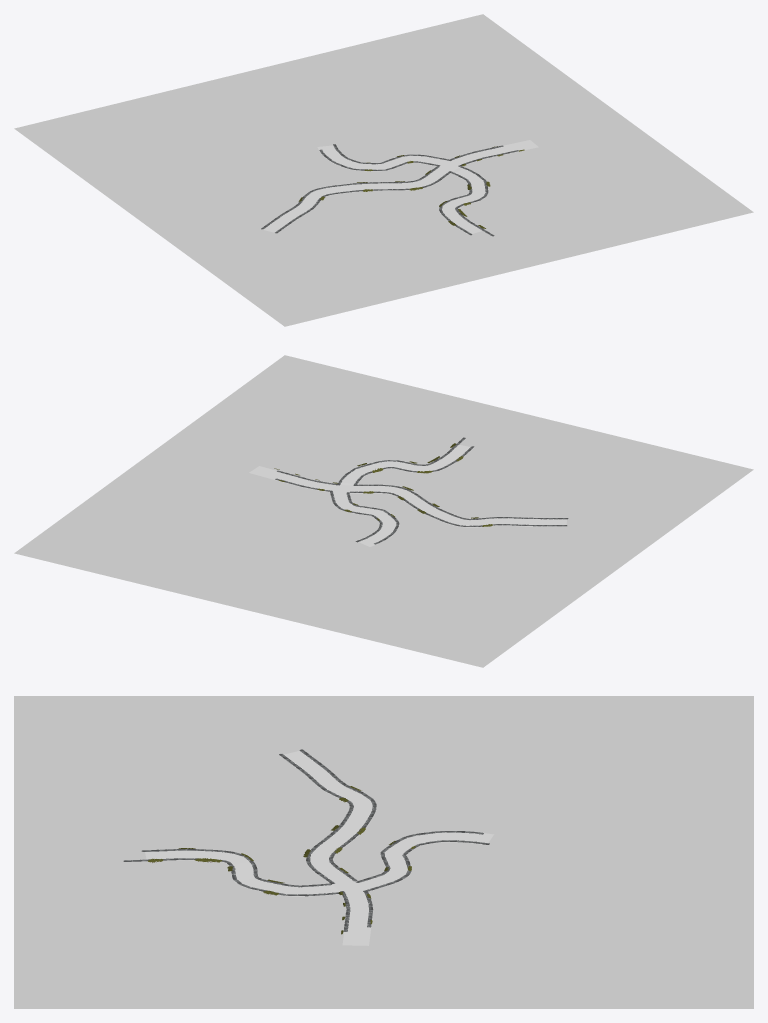
Rendered from Level 7.fbx.
3 renders of one model, top to bottom at view 1: azimuth 30°, elevation 25°; view 2: azimuth 150°, elevation 25°; view 3: azimuth 270°, elevation 25°, orthographic. The views are drawn at different scales.
Visible parts, largest first — view 1: Ground Test 3.005, Dirt_Ground 1.013, Dirt_Ground 1.015, Dirt_Ground 1.014, Stone 1.027; view 2: Ground Test 3.005, Dirt_Ground 1.013, Dirt_Ground 1.015, Dirt_Ground 1.014, Stone 1.026; view 3: Ground Test 3.005, Dirt_Ground 1.013, Dirt_Ground 1.015, Dirt_Ground 1.014, Stone 1.026, Stone 1.027.
Part boxes in pixels (box(x1,y1,x2,y2)): Ground Test 3.005: box(14, 14, 753, 326); Dirt_Ground 1.013: box(262, 140, 538, 232); Dirt_Ground 1.015: box(439, 167, 488, 234); Dirt_Ground 1.014: box(317, 145, 449, 171); Stone 1.027: box(261, 145, 503, 229); Ground Test 3.005: box(14, 355, 753, 667); Dirt_Ground 1.013: box(249, 466, 566, 527); Dirt_Ground 1.015: box(338, 444, 473, 485); Dirt_Ground 1.014: box(331, 490, 399, 546); Stone 1.026: box(277, 470, 568, 519); Ground Test 3.005: box(14, 696, 753, 1008); Dirt_Ground 1.013: box(281, 751, 376, 945); Dirt_Ground 1.015: box(145, 849, 339, 896); Dirt_Ground 1.014: box(350, 832, 493, 891); Stone 1.026: box(279, 754, 353, 931); Stone 1.027: box(299, 749, 376, 927).
Bounding box in the file's own units: 15000 × 65.23 × 15000.
